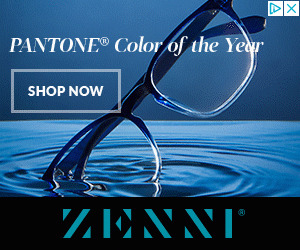fake_button: (8, 64, 135, 117)
